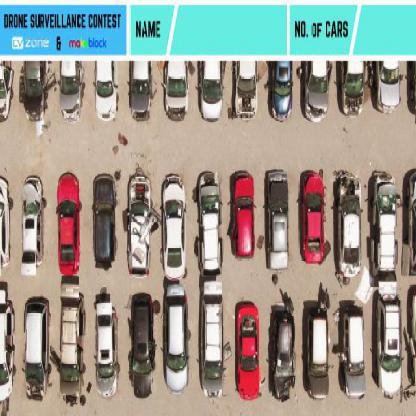car: (370, 170, 398, 284), (59, 289, 85, 409), (336, 181, 365, 279), (268, 307, 296, 406), (132, 295, 158, 397), (161, 184, 189, 278), (131, 167, 153, 282), (92, 176, 120, 265), (95, 301, 121, 394), (264, 174, 290, 265), (299, 178, 327, 262), (230, 181, 259, 261), (21, 298, 43, 400), (57, 185, 83, 270), (20, 185, 45, 272), (203, 298, 225, 396), (165, 302, 189, 391), (237, 305, 261, 393), (198, 182, 222, 266), (305, 317, 328, 403), (1, 289, 15, 415), (303, 60, 331, 120), (200, 61, 226, 121), (383, 311, 403, 389), (163, 61, 189, 120), (267, 62, 293, 120), (59, 61, 84, 119), (19, 64, 45, 119), (94, 61, 118, 120), (339, 60, 365, 114), (129, 61, 153, 119), (234, 63, 258, 121), (376, 63, 403, 113), (346, 326, 365, 396), (1, 65, 10, 127)
